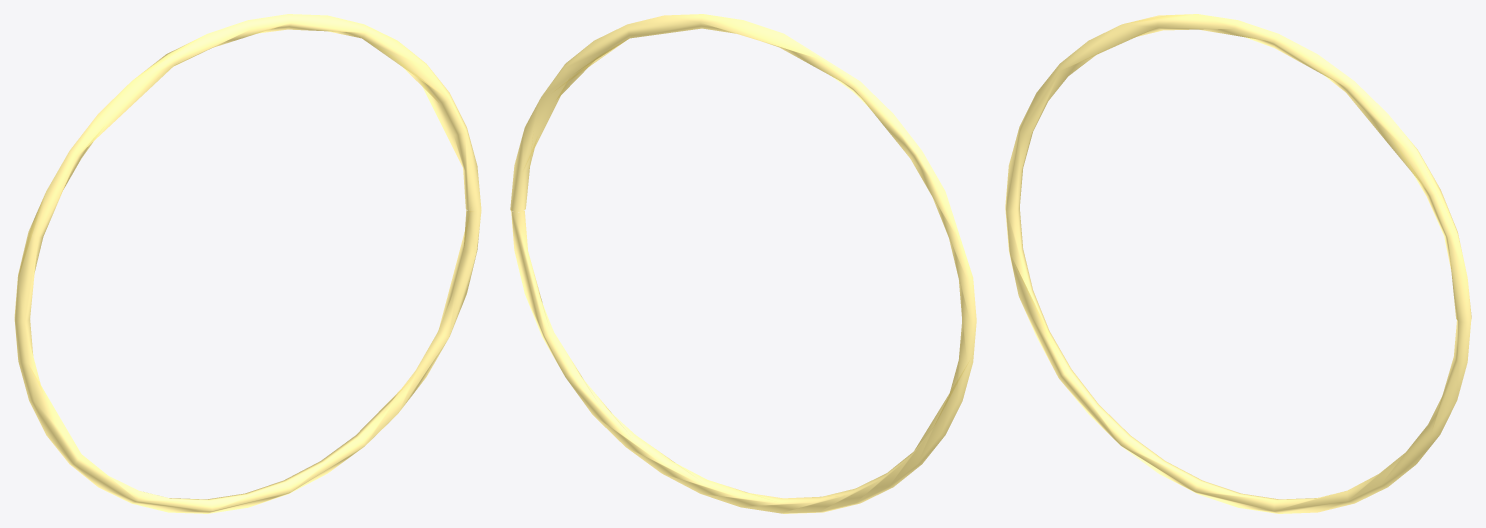
The model's file is eagle-crown-ring.low.glb.
3 views of the same model, side by side, from view 1: azimuth 30°, elevation 25°; view 2: azimuth 150°, elevation 25°; view 3: azimuth 330°, elevation 25° (orthographic).
Visible parts, largest first — view 1: Eagle Crown Ring; view 2: Eagle Crown Ring; view 3: Eagle Crown Ring.
Part boxes in pixels (<box>): Eagle Crown Ring: <box>14,14,481,513</box>; Eagle Crown Ring: <box>510,14,976,513</box>; Eagle Crown Ring: <box>1005,14,1471,513</box>.
Size of the model in its own units: 42.67 by 42.67 by 1.26.
